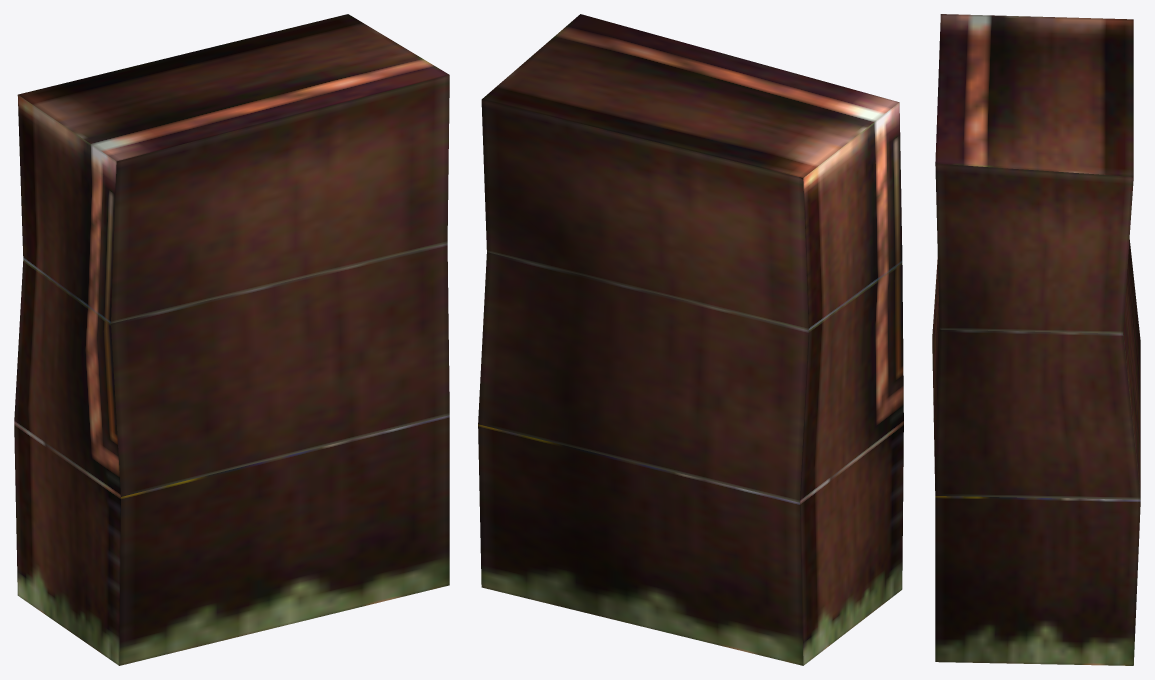
The picture shows the model from 3 angles, left to right: view 1: azimuth 30°, elevation 25°; view 2: azimuth 150°, elevation 25°; view 3: azimuth 270°, elevation 25°; orthographic projection. The views are drawn at different scales.
Visible parts, largest first — view 1: T1L2M007_19; view 2: T1L2M007_19; view 3: T1L2M007_19.
Boxes of the visible parts, left/top/right/bottom form: T1L2M007_19: left=14, top=14, right=449, bottom=665; T1L2M007_19: left=478, top=14, right=903, bottom=665; T1L2M007_19: left=932, top=14, right=1140, bottom=665.
Bounding box in the file's own units: 0.6855 × 1.01 × 0.3789.
Materials: 1 (1 with a texture image).
